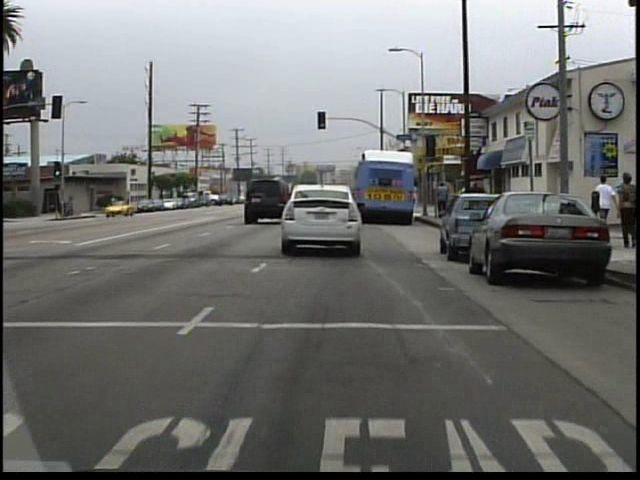person: (614, 171, 638, 249), (592, 170, 617, 221), (431, 181, 450, 219), (110, 193, 123, 217)
